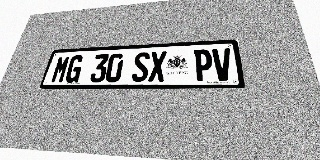0: (104, 53, 124, 82)
3: (89, 54, 109, 83)
G: (64, 55, 85, 83)
M: (50, 56, 71, 83)
P: (194, 49, 213, 81)
S: (131, 52, 150, 82)
V: (212, 48, 233, 81)
X: (148, 51, 167, 82)
